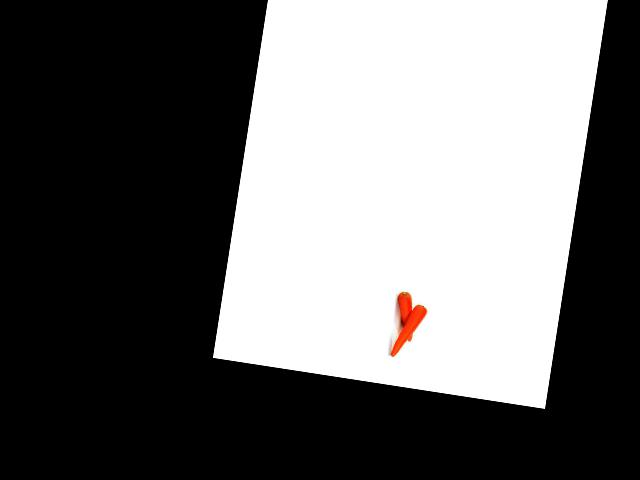carrot: (391, 286, 420, 345)
